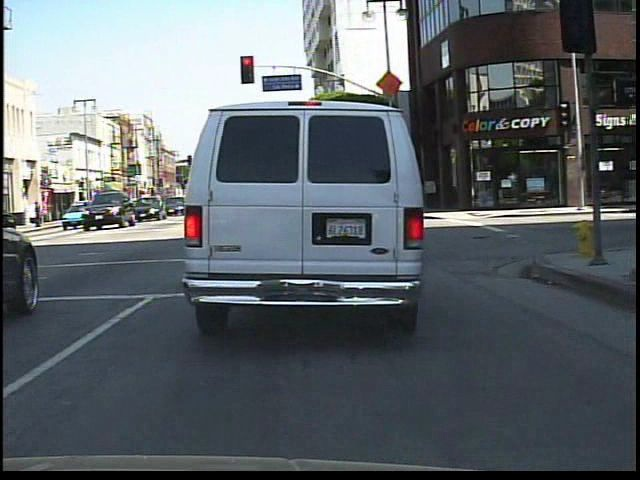person: (32, 197, 45, 229)
